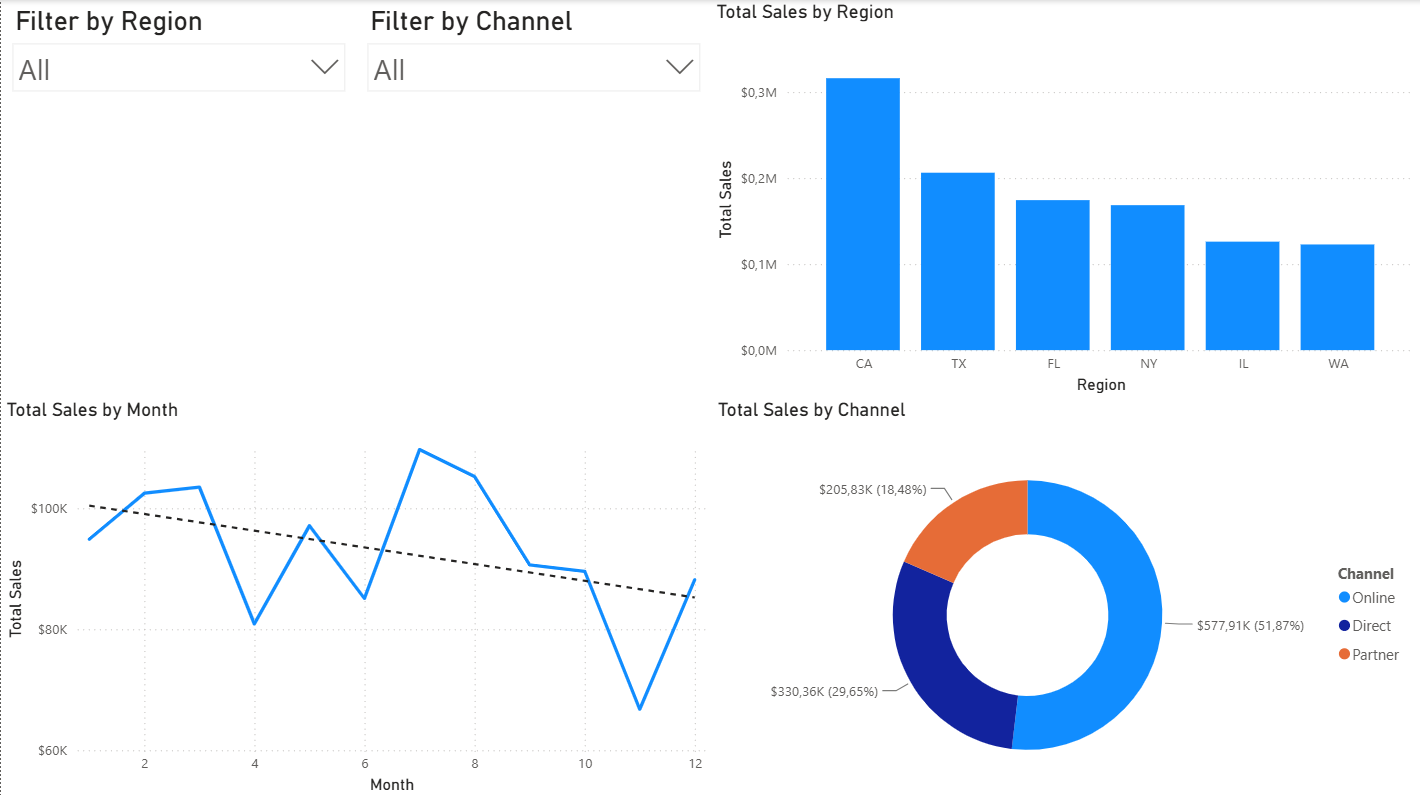

The dashboard page shown, as its layout file describes it:
{"tool":"powerbi","page":{"name":"Executive Summary","canvas":[1280,720],"ordinal":1},"visuals":[{"type":"columnChart","fields":{"Category":["sales_data.Region"],"Y":["sales_data.Total Sales"]},"box":[640.8,0,639.5,359.5],"z":0},{"type":"lineChart","fields":{"Category":["Date.Month"],"Y":["sales_data.Total Sales"]},"box":[0,359.5,640.8,360.7],"z":1000},{"type":"donutChart","fields":{"Category":["sales_data.Channel"],"Y":["sales_data.Total Sales"]},"box":[641,360,639,360],"z":2000},{"type":"slicer","fields":{"Values":["sales_data.Region"]},"box":[0,0,320.4,91.7],"z":3000},{"type":"slicer","fields":{"Values":["sales_data.Channel"]},"box":[320.4,0,320.4,100.3],"z":4000}]}

Visuals, with their boxes in screenshot pixels (x1, y1, x2, y2), scaled from the page's 1280x720 canvas onto the 1420x797 screenshot:
columnChart - sales_data.Region x sales_data.Total Sales: 711, 0, 1419, 398
lineChart - Date.Month x sales_data.Total Sales: 0, 398, 711, 796
donutChart - sales_data.Channel x sales_data.Total Sales: 711, 398, 1419, 796
slicer - sales_data.Region: 0, 0, 355, 102
slicer - sales_data.Channel: 355, 0, 711, 111
